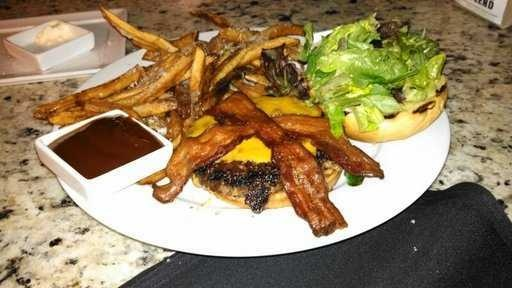hamburger: (186, 22, 425, 212)
